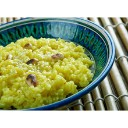venpongal: (1, 42, 91, 95)
